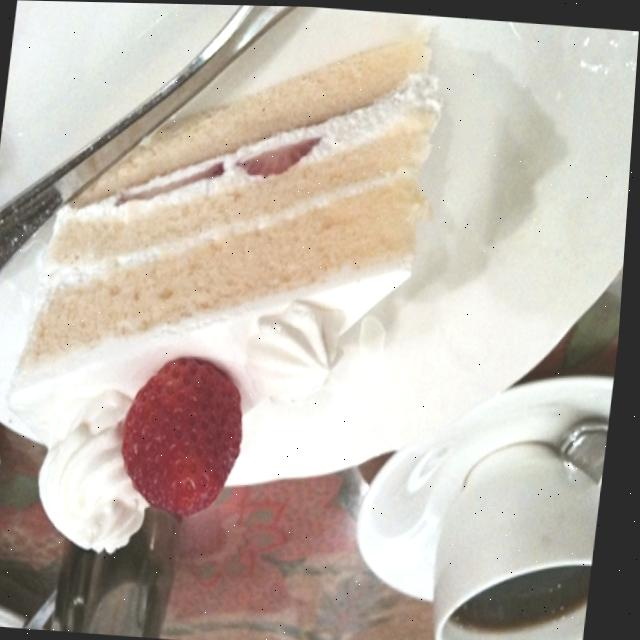汉堡快餐: (432, 108, 635, 415)
炸货点心: (201, 277, 550, 634)
